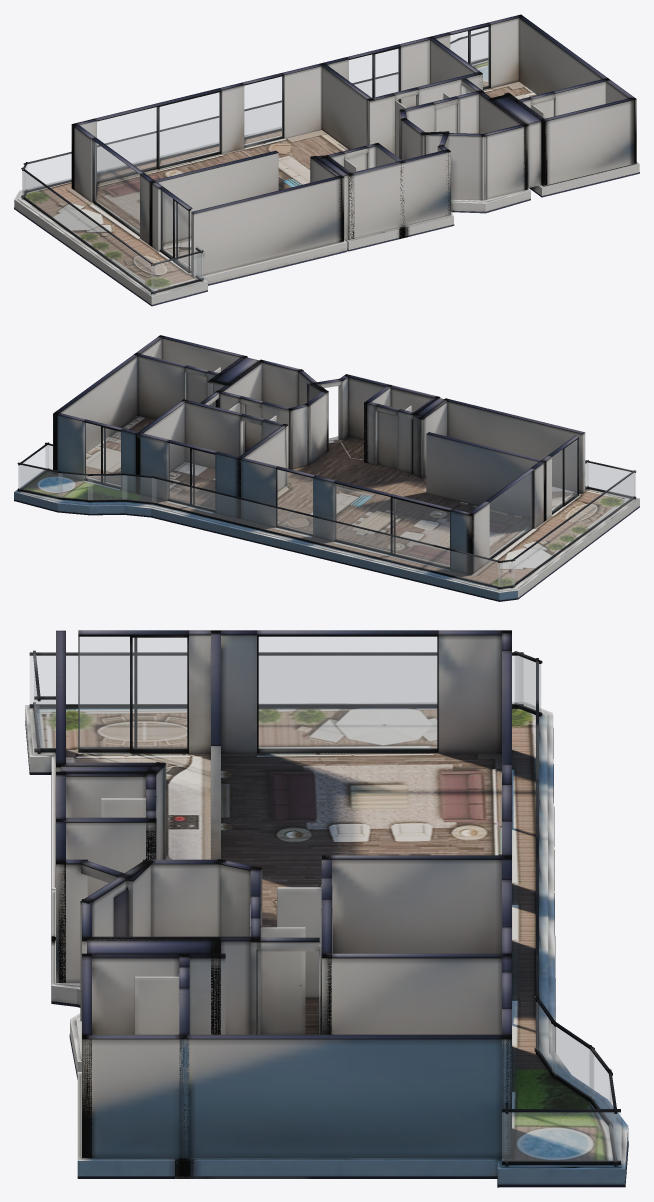
3 views of the same model, one above another, from view 1: azimuth 30°, elevation 25°; view 2: azimuth 150°, elevation 25°; view 3: azimuth 270°, elevation 25° (orthographic). The views are drawn at different scales.
Visible parts, largest first — view 1: plan, glass0_m, railg1_m, railg9_m, glass4_m, glass1_m, glass2_m, glass5_m, railg10_m, glass3_m, railg6_m; view 2: plan, railg1_m, glass0_m, railg9_m, glass2_m, glass4_m, glass1_m, glass3_m, glass5_m, railg10_m, railg6_m, railg4_m (+4 smaller); view 3: plan, glass4_m, railg9_m, glass5_m, railg7_m, railg4_m, railg0_m, railg8_m, railg3_m, railg5_m.
Part boxes in pixels (bbox=[...]): plan: bbox=[14, 14, 639, 306]; glass0_m: bbox=[97, 92, 219, 181]; railg1_m: bbox=[25, 75, 395, 189]; railg9_m: bbox=[22, 171, 154, 291]; glass4_m: bbox=[94, 141, 139, 233]; glass1_m: bbox=[244, 76, 282, 145]; glass2_m: bbox=[349, 49, 398, 101]; glass5_m: bbox=[160, 190, 190, 268]; railg10_m: bbox=[151, 253, 202, 291]; glass3_m: bbox=[450, 27, 488, 87]; railg6_m: bbox=[461, 32, 487, 62]; plan: bbox=[14, 335, 639, 601]; railg1_m: bbox=[152, 478, 502, 586]; glass0_m: bbox=[335, 484, 449, 566]; railg9_m: bbox=[511, 473, 634, 585]; glass2_m: bbox=[168, 443, 214, 509]; glass4_m: bbox=[490, 472, 532, 557]; glass1_m: bbox=[277, 470, 312, 533]; glass3_m: bbox=[84, 423, 120, 486]; glass5_m: bbox=[552, 440, 576, 512]; railg10_m: bbox=[586, 462, 635, 496]; railg6_m: bbox=[18, 465, 62, 497]; railg4_m: bbox=[88, 475, 126, 499]; plan: bbox=[25, 630, 628, 1187]; glass4_m: bbox=[259, 637, 436, 748]; railg9_m: bbox=[30, 656, 522, 704]; glass5_m: bbox=[78, 637, 186, 748]; railg7_m: bbox=[502, 1112, 620, 1161]; railg4_m: bbox=[552, 1024, 593, 1099]; railg0_m: bbox=[515, 656, 540, 712]; railg8_m: bbox=[34, 700, 55, 748]; railg3_m: bbox=[536, 1002, 555, 1074]; railg5_m: bbox=[590, 1050, 611, 1121].
Bounding box in the file's own units: 19.04 × 2.62 × 10.38.
2 materials, 1 textured.
